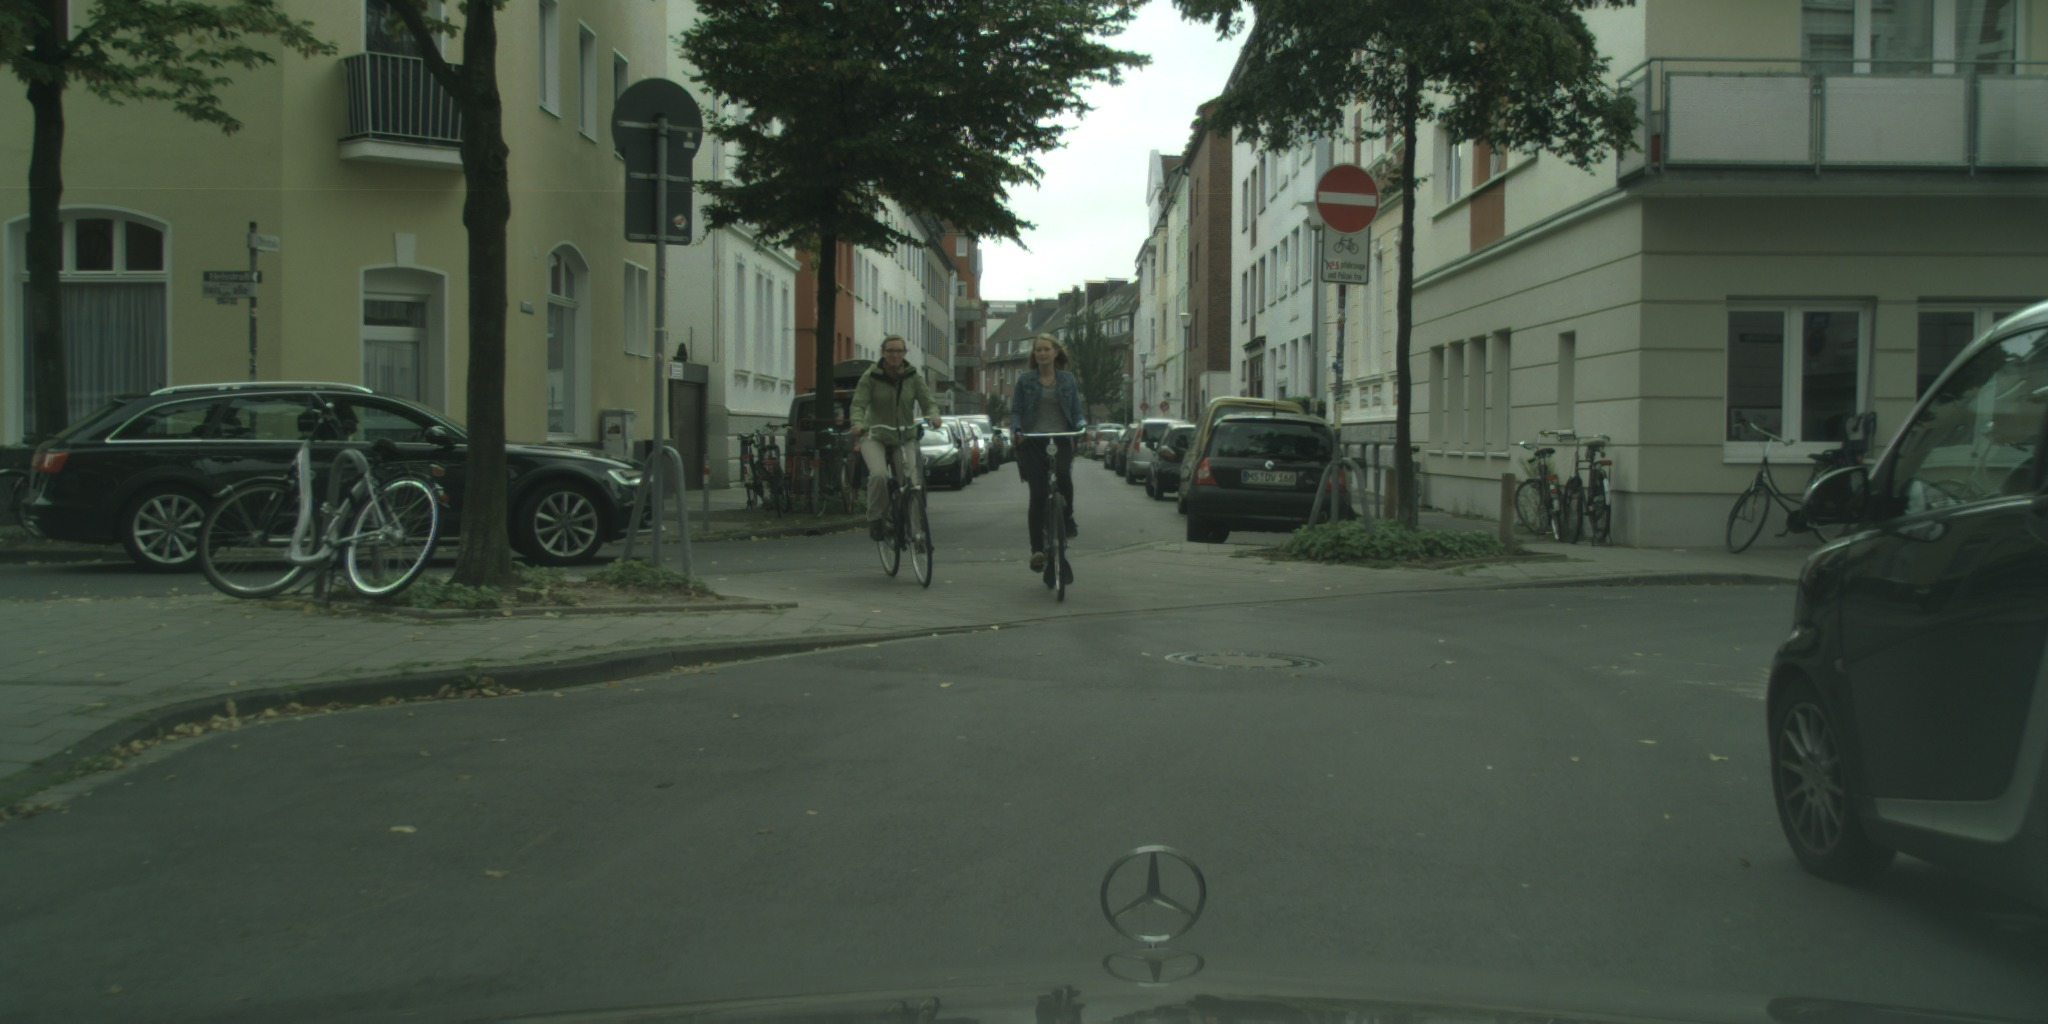bicycle: (196, 386, 451, 600), (1724, 409, 1889, 554), (862, 422, 934, 589), (1020, 425, 1086, 602), (1509, 430, 1569, 543), (1557, 430, 1613, 548), (815, 425, 859, 519), (757, 424, 793, 518), (802, 443, 833, 519), (736, 431, 766, 505)
car: (1766, 296, 2048, 910), (17, 381, 664, 574), (1185, 411, 1356, 544), (783, 359, 928, 507), (1175, 395, 1312, 514), (897, 421, 966, 491), (908, 414, 974, 485), (1145, 423, 1203, 502), (1124, 417, 1190, 485), (955, 414, 1007, 471), (943, 421, 981, 479), (1086, 421, 1128, 462), (1114, 422, 1147, 477), (1072, 423, 1112, 460), (1101, 432, 1132, 472), (968, 425, 990, 473), (1094, 427, 1123, 462), (990, 425, 1018, 460)
rider: (1010, 333, 1089, 576), (851, 335, 941, 551)
